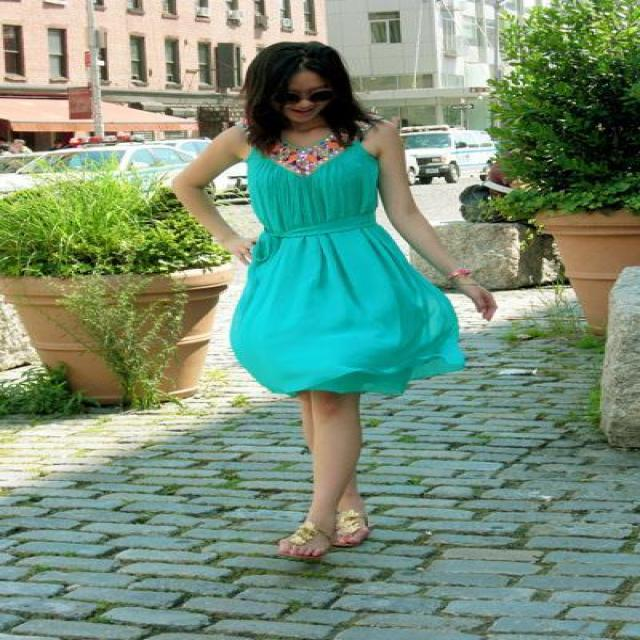dress: (231, 132, 478, 395)
shoe: (304, 516, 354, 550)
